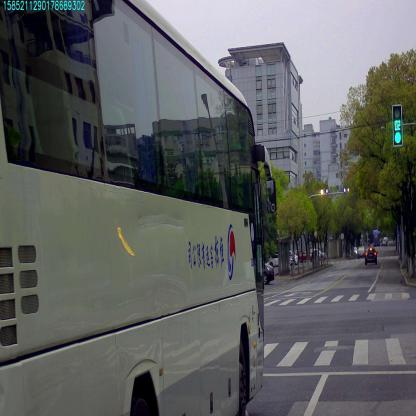traffic-light: (392, 106, 402, 145)
